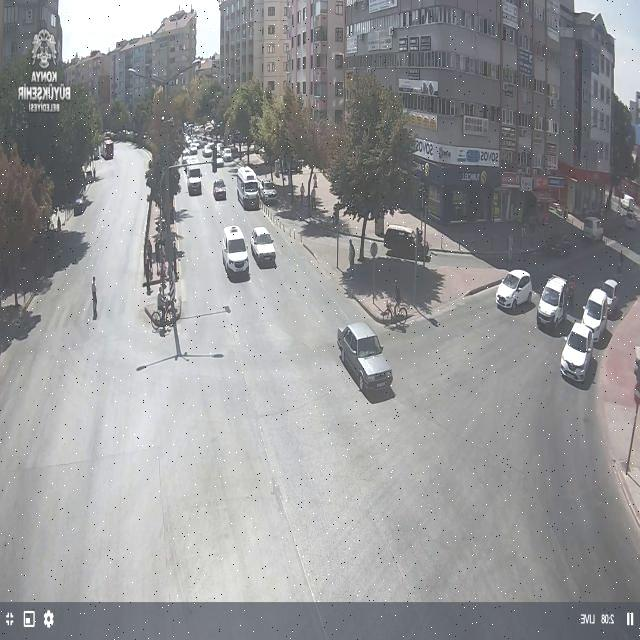Car: (327, 322, 395, 398), (488, 266, 532, 312), (559, 323, 596, 376), (586, 286, 621, 339), (222, 227, 253, 281), (379, 227, 433, 254), (249, 225, 280, 268), (604, 270, 628, 320), (260, 176, 282, 206), (211, 178, 229, 200), (222, 144, 237, 163), (212, 152, 224, 169)
Cycle: (378, 288, 417, 329)
Truck: (233, 164, 262, 209), (186, 162, 205, 196)
Van: (524, 275, 578, 337), (580, 215, 607, 245)
